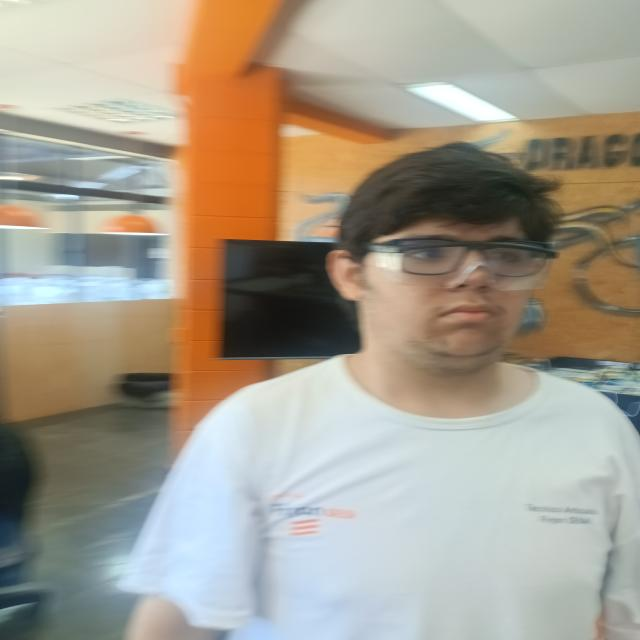oculos-epi: (369, 241, 560, 291)
